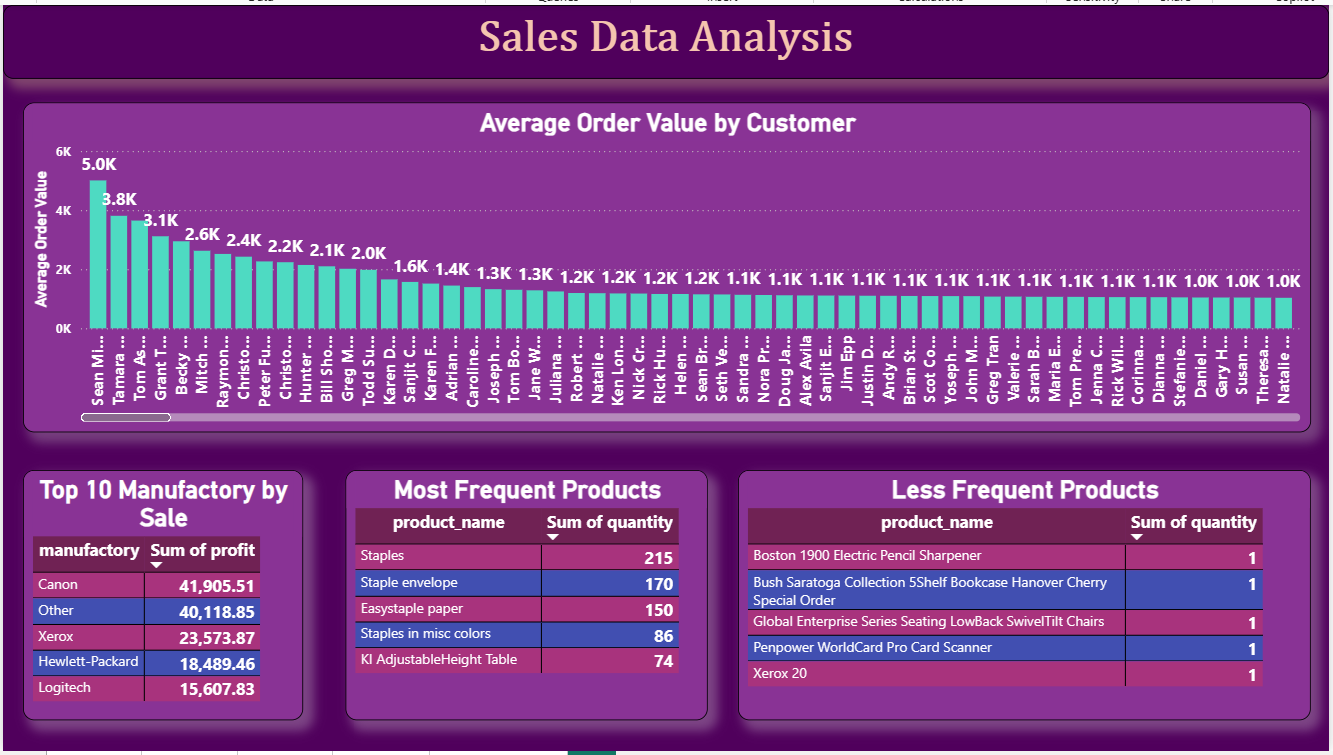

The dashboard page shown, as its layout file describes it:
{"tool":"powerbi","page":{"name":"Page 4","canvas":[1280,720],"ordinal":3},"visuals":[{"type":"textbox","box":[0,0,1280,71.2],"z":0},{"type":"pivotTable","title":"Top 10 Manufactory by Sale","fields":{"Values":["Sum(sales_analysis sales_data.profit)"],"Rows":["sales_analysis sales_data.manufactory"]},"box":[19.2,448.7,270.3,241.5],"z":1000},{"type":"pivotTable","title":"Most Frequent Products","fields":{"Values":["Sum(sales_analysis sales_data.quantity)"],"Rows":["sales_analysis sales_data.product_name"]},"box":[330.7,448.7,349.9,241.5],"z":2000},{"type":"clusteredColumnChart","title":"Average Order Value by Customer","fields":{"Y":["sales_analysis sales_data.Average Order Value"],"Category":["sales_analysis sales_data.customer"]},"box":[19.2,94.7,1243.2,318.4],"z":3001},{"type":"pivotTable","title":"Less Frequent Products","fields":{"Values":["Sum(sales_analysis sales_data.quantity)"],"Rows":["sales_analysis sales_data.product_name"]},"box":[709.4,448.7,553,241.5],"z":3002}]}

Visuals, with their boxes in screenshot pixels (x1, y1, x2, y2), scaled from the page's 1280x720 canvas onto the 1333x755 screenshot:
textbox: [left=0, top=0, right=1332, bottom=75]
"Top 10 Manufactory by Sale" pivotTable: [left=20, top=471, right=301, bottom=724]
"Most Frequent Products" pivotTable: [left=344, top=471, right=709, bottom=724]
"Average Order Value by Customer" clusteredColumnChart: [left=20, top=99, right=1315, bottom=433]
"Less Frequent Products" pivotTable: [left=739, top=471, right=1315, bottom=724]
